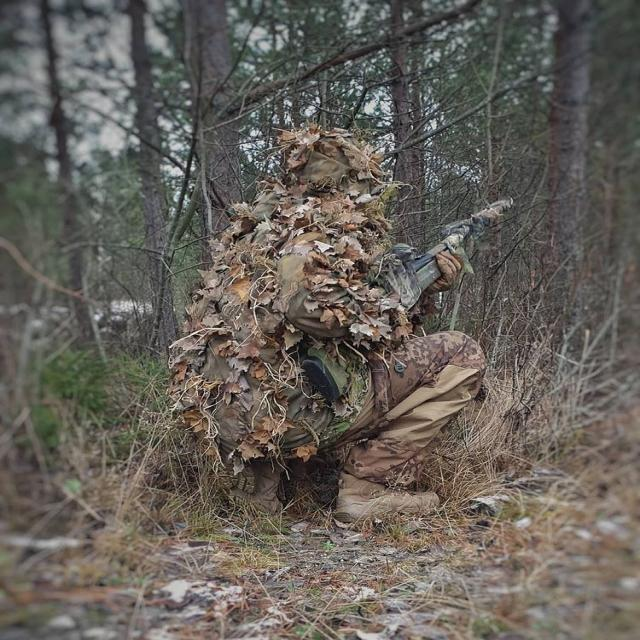human: (172, 126, 511, 521)
